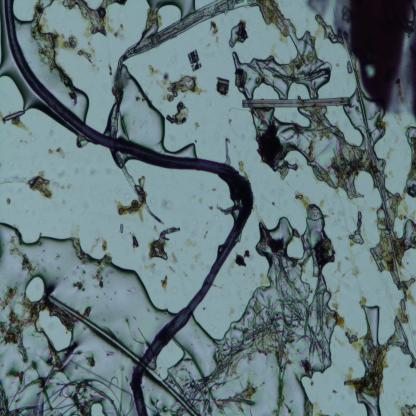Air bubble: (0, 220, 175, 320), (250, 204, 341, 289), (142, 0, 196, 34), (35, 306, 75, 351), (157, 340, 185, 382), (361, 302, 380, 346), (21, 272, 47, 303), (173, 141, 198, 158), (229, 25, 240, 50), (89, 400, 104, 416)
Background material: (227, 23, 371, 198), (206, 289, 330, 399), (335, 310, 416, 416), (373, 182, 416, 305), (121, 68, 166, 148), (40, 27, 100, 75), (0, 282, 30, 364), (63, 0, 126, 36), (254, 1, 292, 47), (147, 223, 180, 264), (162, 72, 206, 102), (19, 170, 53, 201), (337, 309, 359, 355), (10, 238, 36, 275), (403, 125, 416, 195), (347, 209, 366, 246), (165, 102, 190, 125), (2, 109, 28, 131), (216, 198, 242, 216), (0, 173, 27, 188), (87, 236, 107, 256), (44, 142, 66, 160), (235, 248, 250, 272), (93, 264, 105, 291), (221, 134, 231, 166), (398, 400, 416, 416), (239, 18, 249, 45), (158, 274, 170, 295), (330, 287, 340, 311), (237, 159, 250, 177), (128, 233, 140, 251), (184, 234, 197, 249), (73, 280, 86, 294), (191, 117, 202, 131), (211, 20, 219, 38), (193, 250, 201, 264), (118, 224, 125, 233), (6, 196, 11, 206)
Cotton: (117, 0, 253, 68), (117, 162, 159, 222)
Diatom: (188, 49, 202, 71), (215, 76, 230, 94), (235, 68, 247, 88)
Glass filter fibre: (49, 296, 139, 364), (147, 368, 197, 415), (104, 8, 115, 86)
Microfibre: (5, 0, 253, 415)
Pen: (336, 0, 416, 117)
